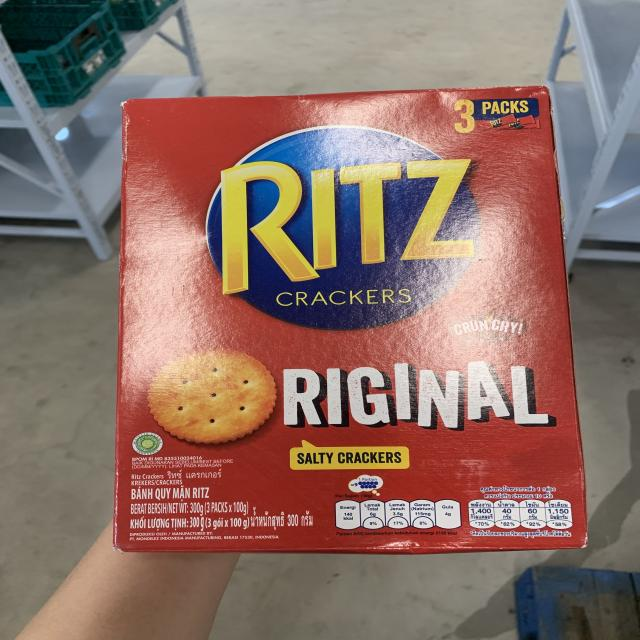object_name: (128, 99, 582, 548)
